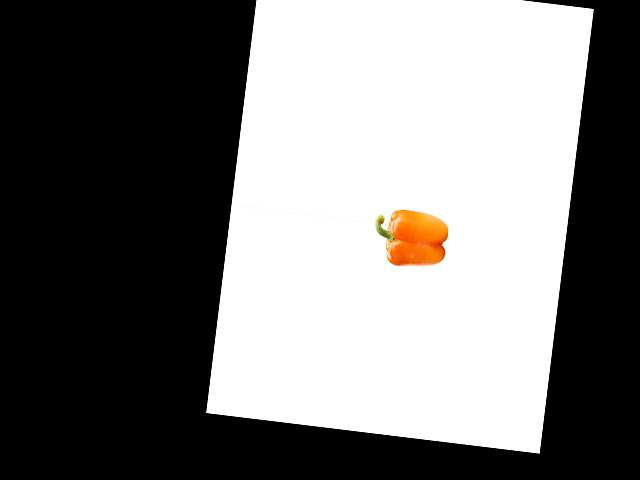bell_pepper: (369, 200, 451, 276)
